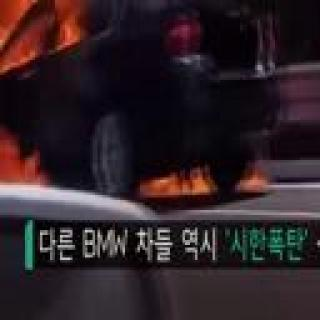fire: (2, 0, 101, 50), (0, 136, 62, 186)
